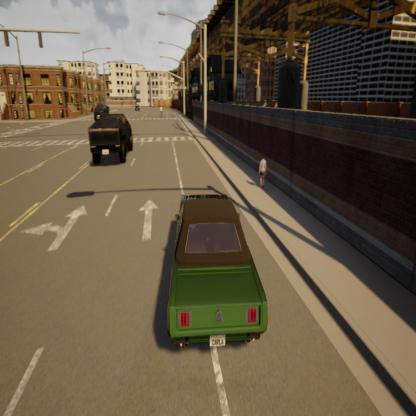Cars: (160, 178, 274, 373), (83, 111, 138, 166), (89, 97, 111, 121), (132, 99, 143, 111)
Pedestrian: (256, 148, 270, 193)
